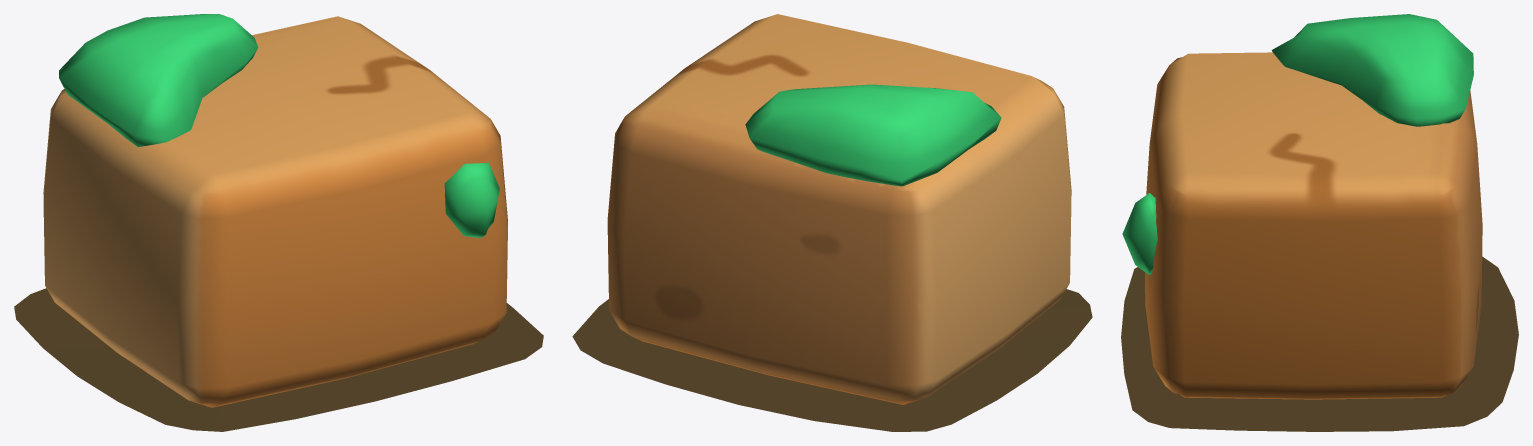
Rendered from E_RockWallC.fbx.
3 renders of one model, left to right at view 1: azimuth 30°, elevation 25°; view 2: azimuth 150°, elevation 25°; view 3: azimuth 270°, elevation 25°, orthographic. The views are drawn at different scales.
Visible parts, largest first — view 1: E_RockWallC_rock, E_RockWallC_shadow; view 2: E_RockWallC_rock, E_RockWallC_shadow; view 3: E_RockWallC_rock, E_RockWallC_shadow.
Part boxes in pixels (x1,y1,x2,y2): E_RockWallC_rock: [43, 14, 507, 407]; E_RockWallC_shadow: [14, 288, 543, 431]; E_RockWallC_rock: [607, 14, 1071, 404]; E_RockWallC_shadow: [572, 289, 1092, 431]; E_RockWallC_rock: [1122, 14, 1482, 399]; E_RockWallC_shadow: [1121, 256, 1518, 431].
Size of the model in its own units: 89.69 by 59.94 by 80.42.
